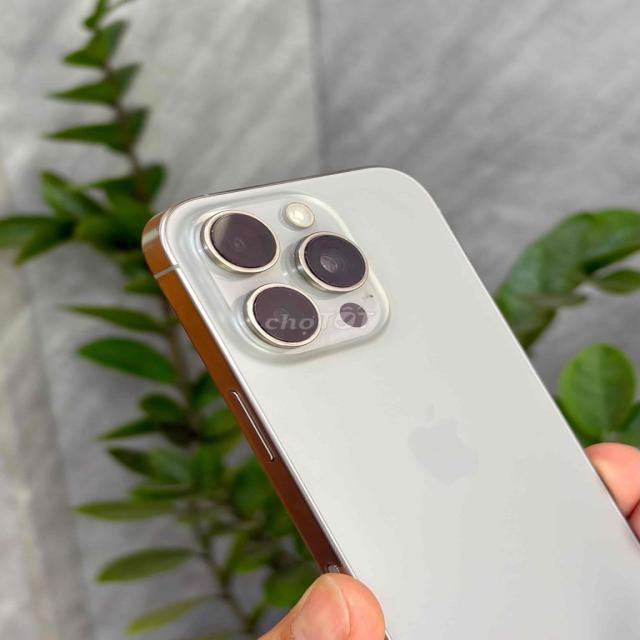gen_16: (133, 151, 640, 640)
